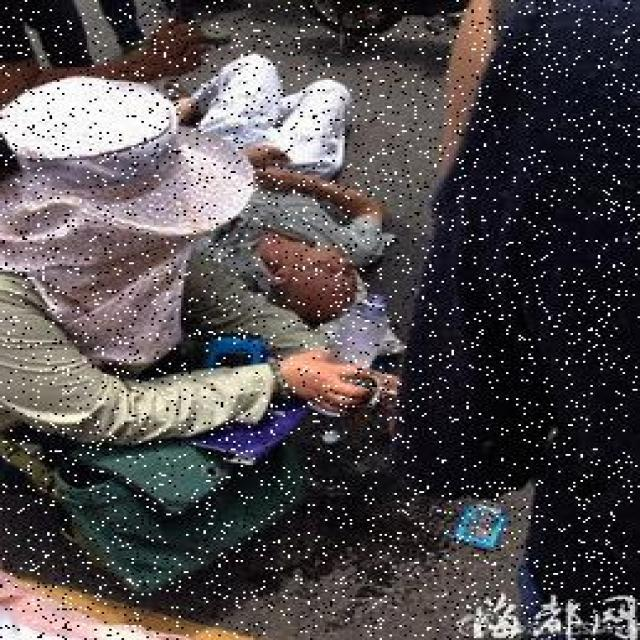fall: (174, 54, 387, 305)
